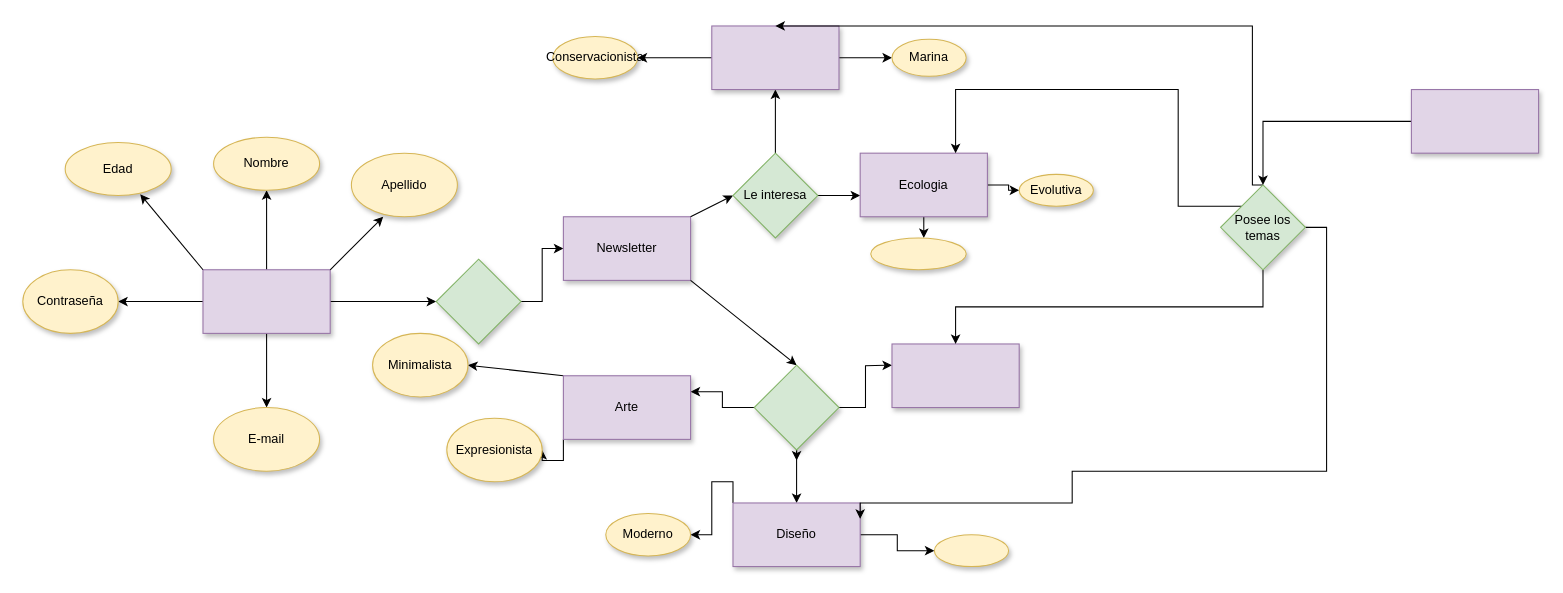
The diagram is 1563 pixels wide and 593 high, and some of its shapes have lost their labels. Here are the shapes that lost their labels. From the top down, the centre of each, then its label:
At point (775, 59): "Biologia".
At point (1475, 122): "Plataforma de noticias, curiosidades, historias".
At point (919, 255): "Agrícola".
At point (267, 302): "Usuario".
At point (479, 302): "Se registra en".
At point (956, 377): "Deportes".
At point (797, 408): "Le gusta".
At point (972, 551): "Bohemio".
